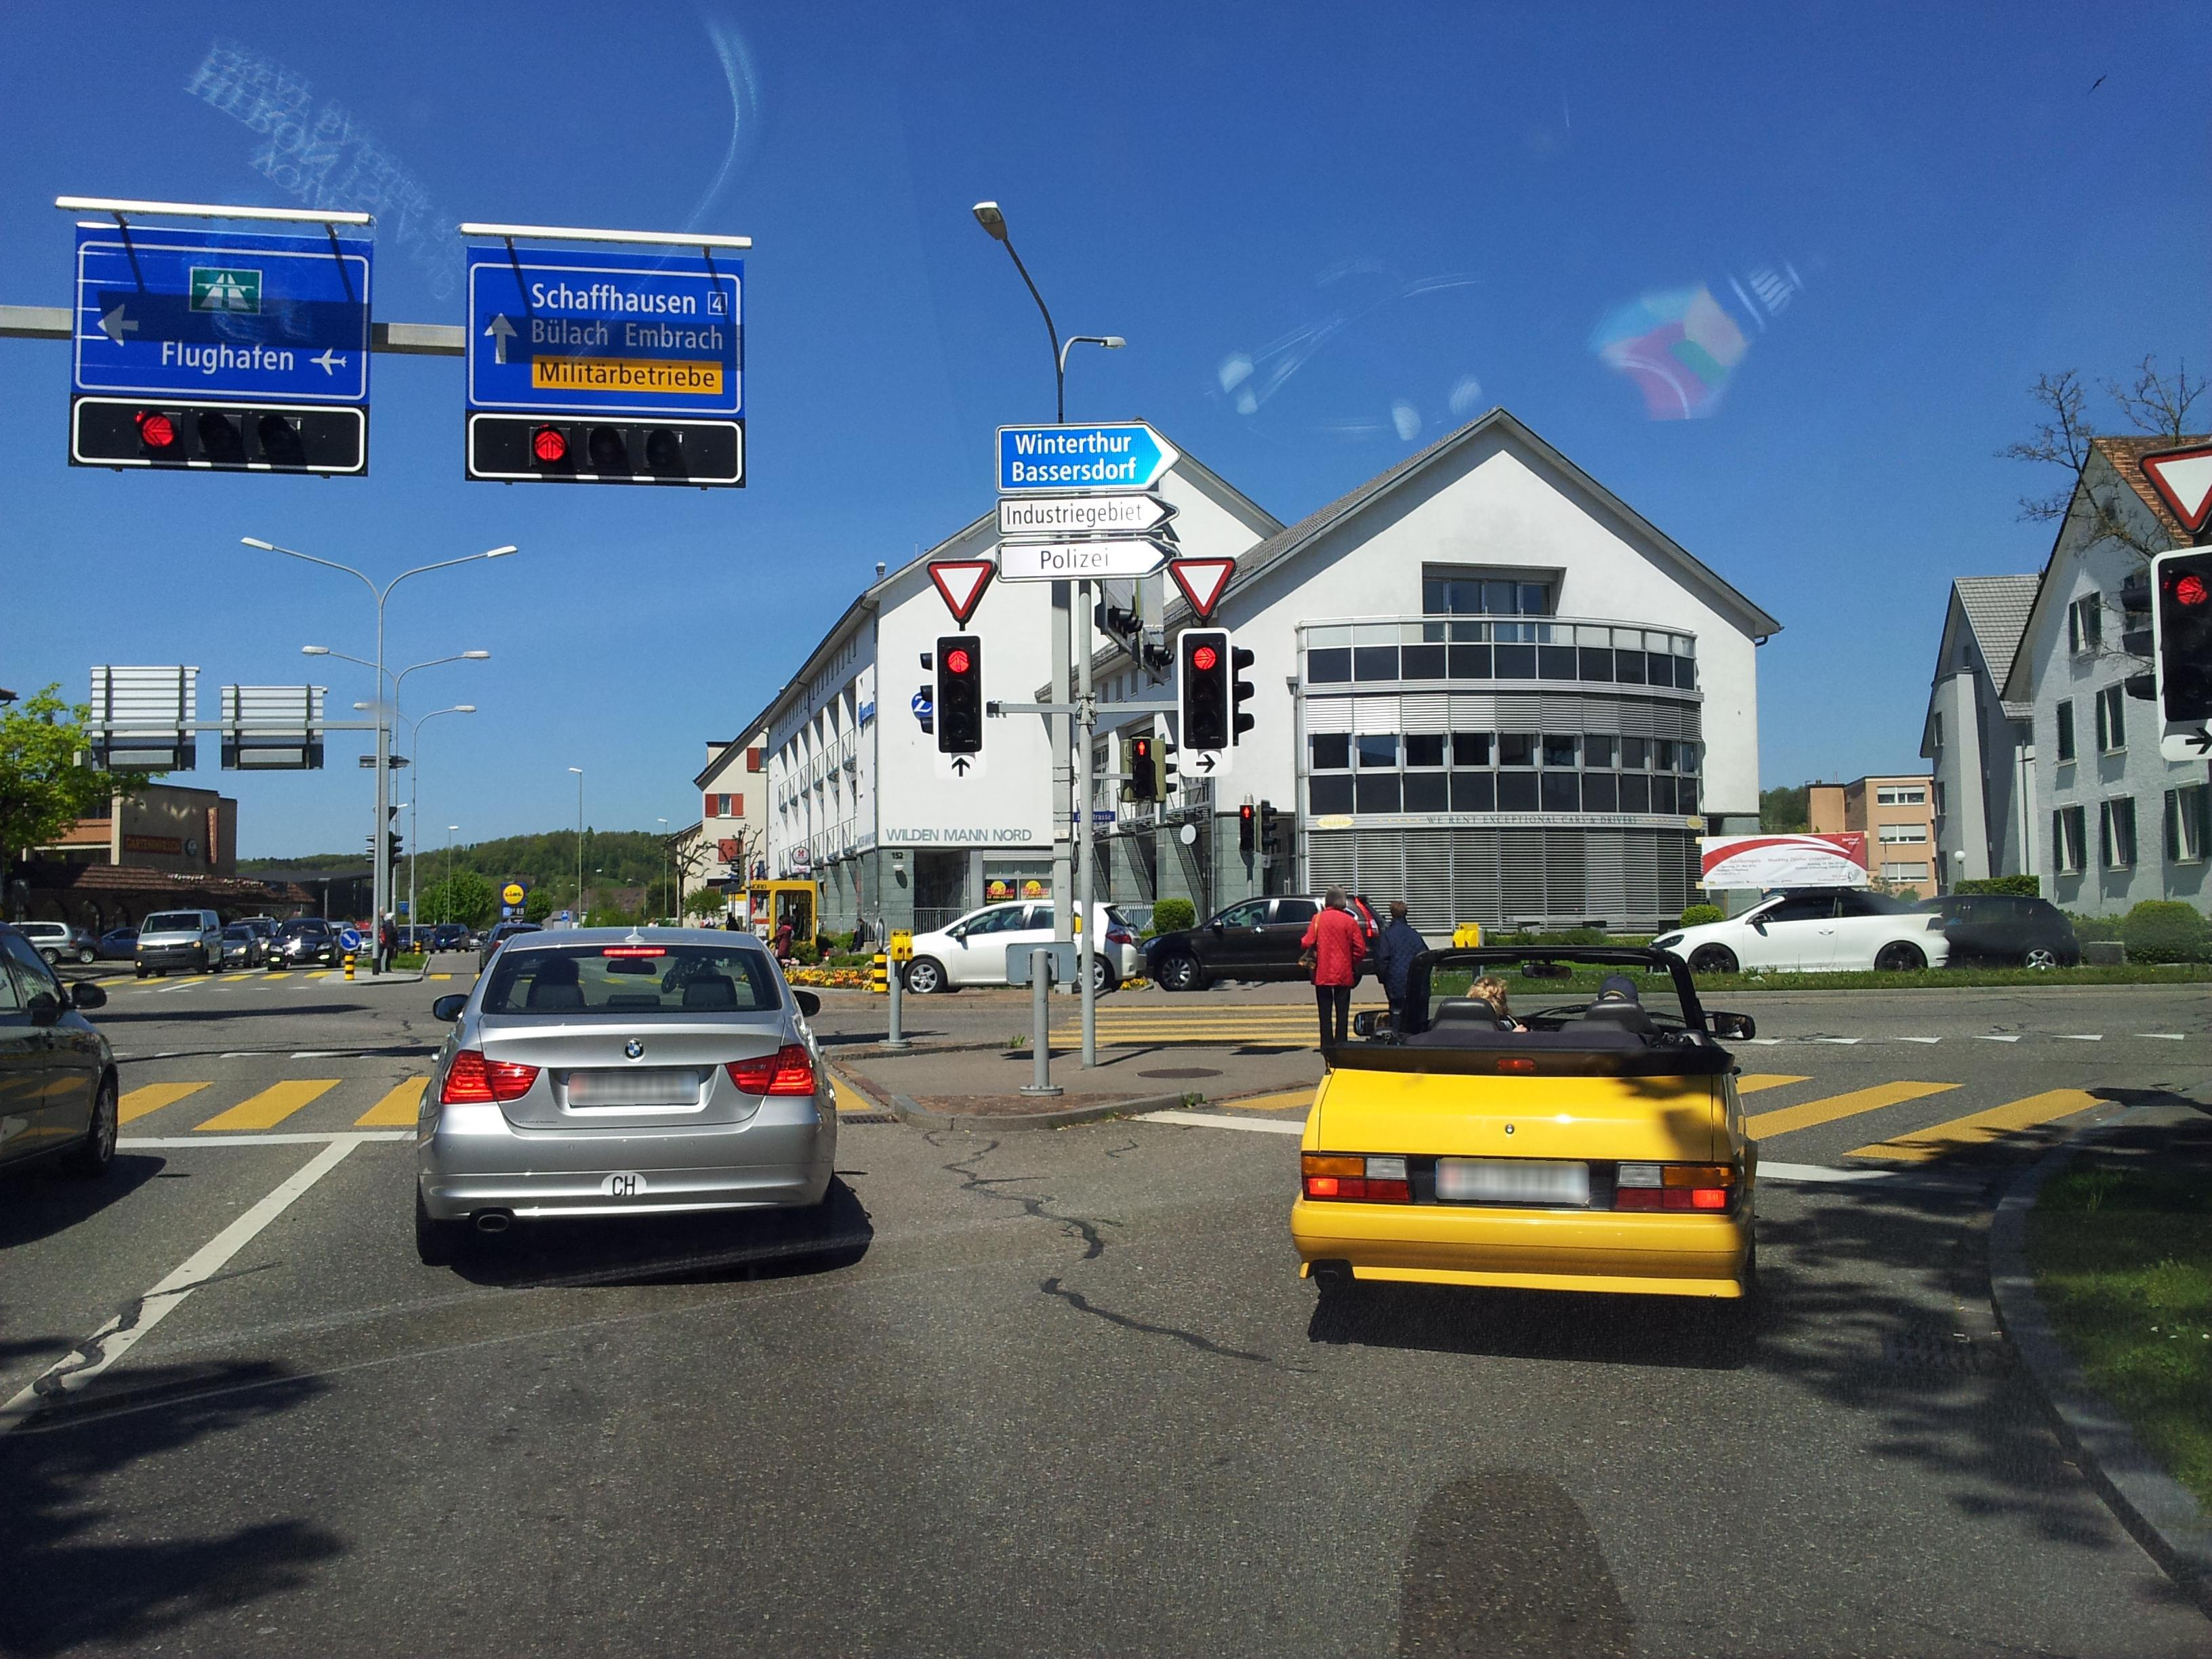vinyl banner: (1695, 821, 1883, 897)
